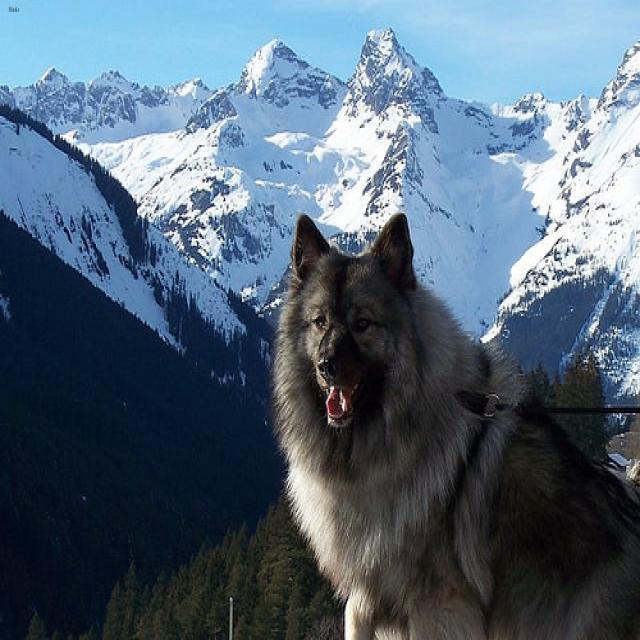dog-keeshond: (271, 203, 637, 637)
